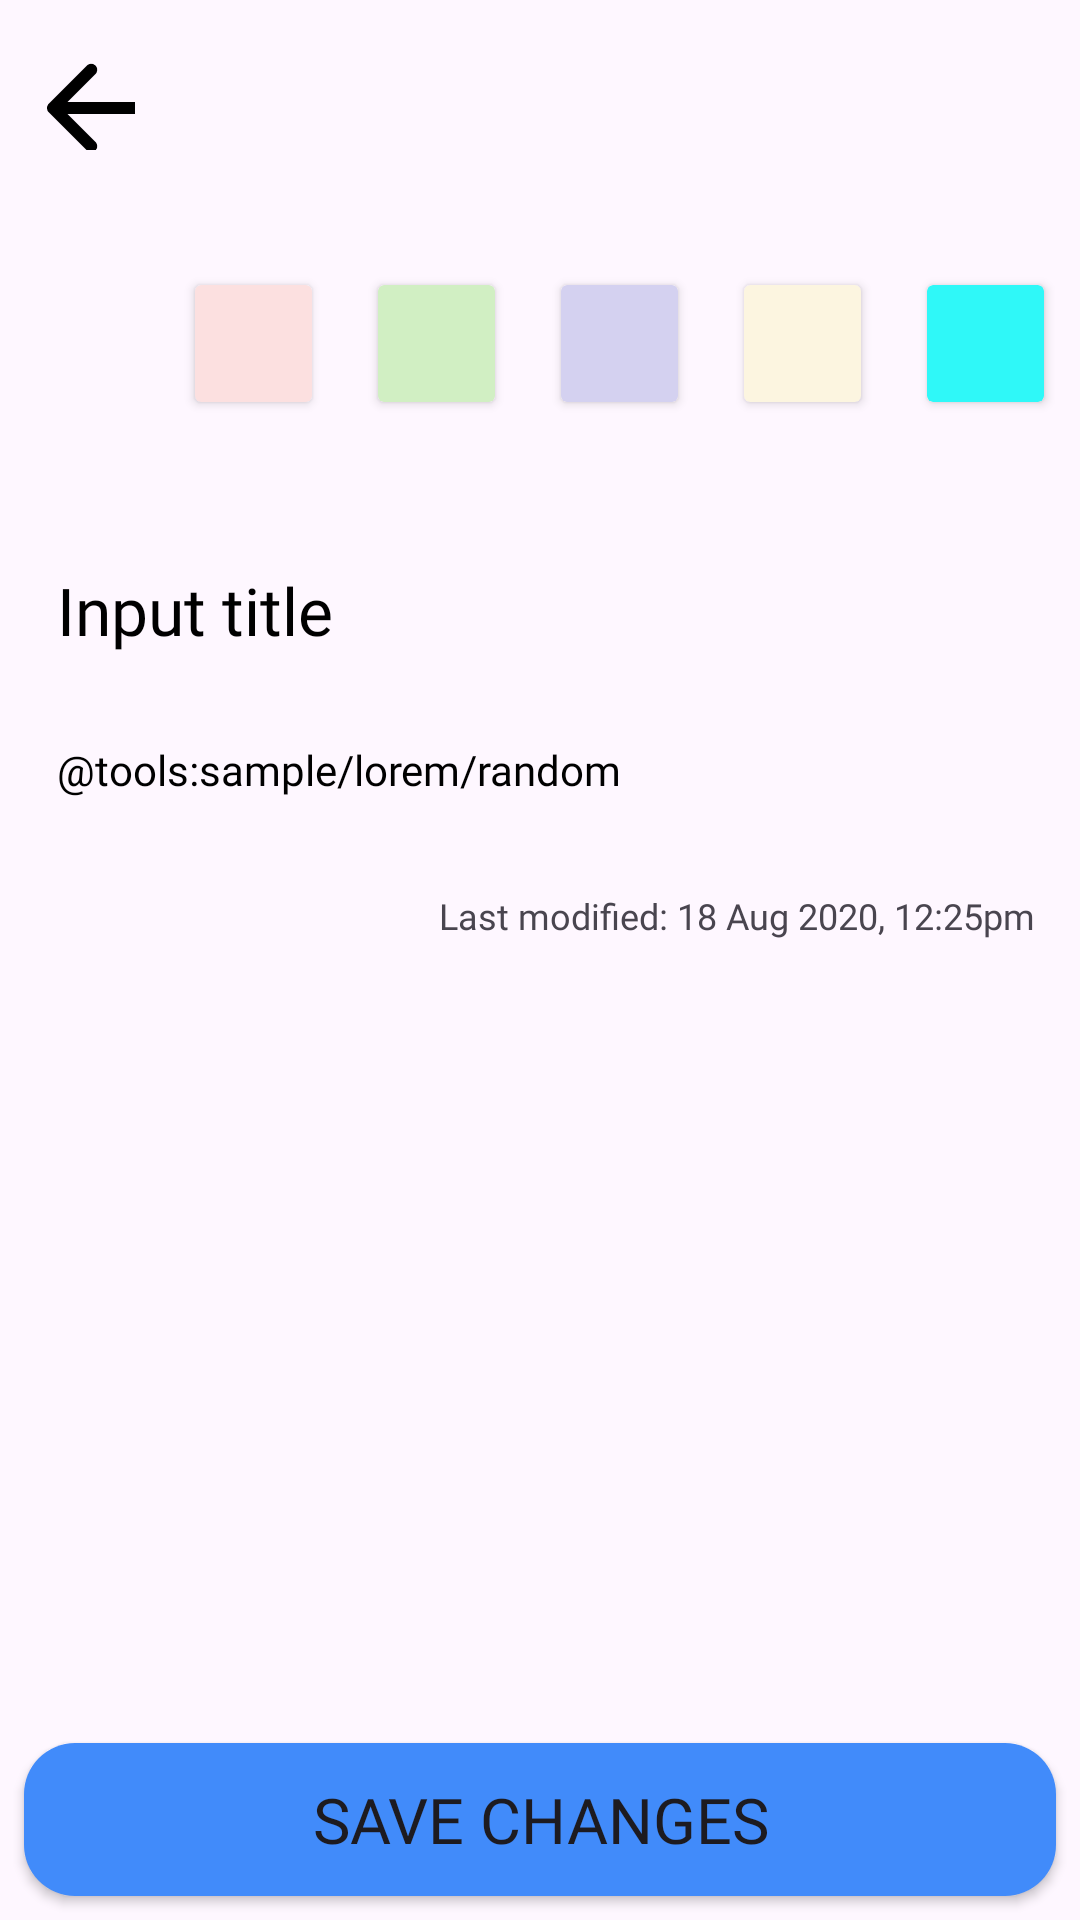

Icon click points for this 1080 × 1920 phone screenshot, format (x=x, y=y):
back: (x=91, y=106)
